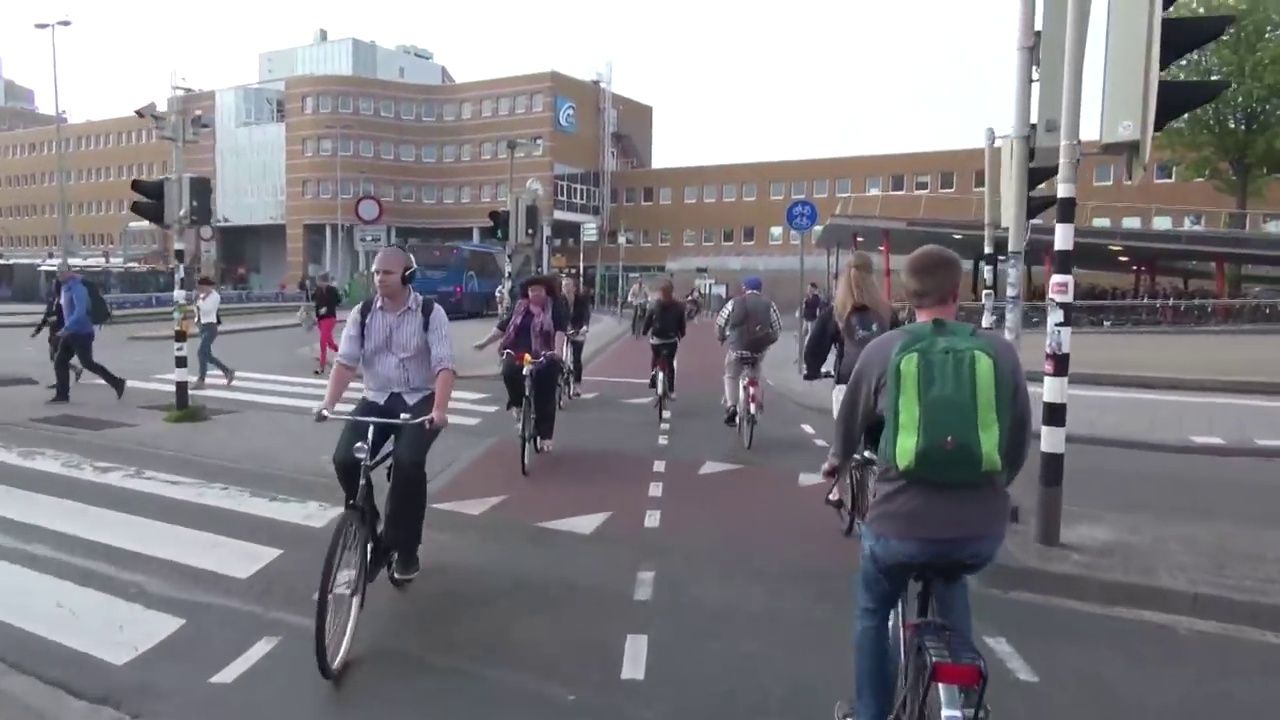cyclist_back: (823, 249, 1013, 710), (808, 245, 882, 536), (722, 274, 785, 457), (647, 272, 685, 427)
cyclist_front: (313, 239, 432, 681), (499, 279, 566, 474), (553, 267, 592, 406), (626, 276, 650, 336)
